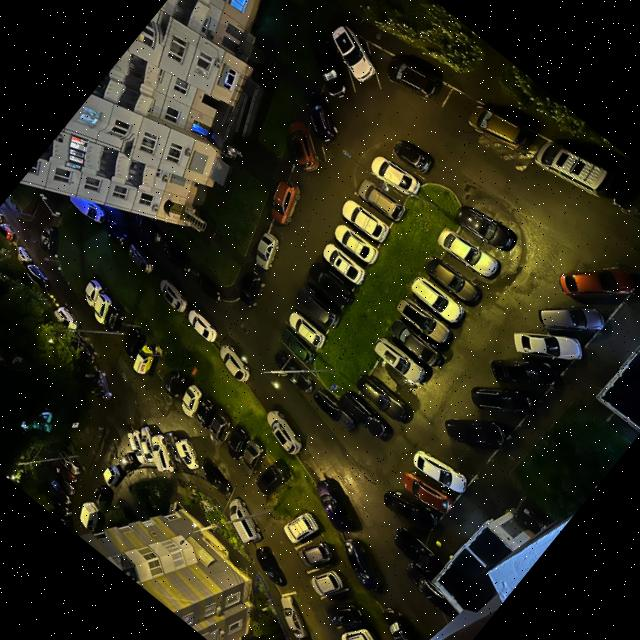car: (527, 135, 623, 205), (438, 191, 513, 254), (433, 221, 504, 287), (415, 247, 487, 311), (364, 329, 434, 392), (463, 98, 538, 156), (403, 267, 467, 325), (352, 365, 410, 427), (400, 560, 459, 620), (329, 23, 380, 90), (382, 53, 445, 107), (394, 294, 455, 346), (550, 264, 638, 300), (339, 389, 394, 446), (349, 174, 407, 226), (388, 519, 440, 576), (307, 34, 349, 104), (367, 150, 424, 201), (380, 488, 441, 535), (339, 195, 392, 249), (315, 475, 360, 537), (303, 262, 357, 313), (412, 446, 467, 496), (400, 468, 454, 517), (388, 317, 439, 367), (263, 404, 308, 460), (343, 534, 384, 595), (308, 383, 357, 434), (293, 281, 341, 332), (483, 356, 559, 388), (508, 331, 583, 363), (270, 344, 316, 396), (464, 383, 532, 417), (321, 240, 367, 289), (286, 117, 323, 176), (331, 223, 379, 268), (302, 88, 338, 147), (533, 306, 608, 334), (443, 418, 507, 450), (285, 305, 327, 353), (217, 336, 257, 386), (277, 321, 317, 369), (226, 494, 263, 545), (393, 135, 434, 181), (268, 177, 303, 229), (275, 596, 312, 640), (159, 273, 194, 319), (279, 513, 320, 550), (187, 305, 222, 348), (252, 458, 288, 499), (253, 547, 288, 589), (235, 267, 266, 313), (252, 230, 282, 276), (379, 605, 418, 640), (195, 274, 228, 311), (198, 460, 231, 497), (238, 435, 265, 480), (165, 240, 196, 279), (292, 540, 333, 569), (222, 421, 251, 462), (163, 365, 191, 406), (310, 569, 348, 599), (205, 410, 232, 452), (130, 341, 157, 382), (177, 384, 205, 423), (327, 605, 370, 630), (128, 241, 156, 279), (148, 434, 175, 472), (195, 395, 219, 436), (136, 213, 164, 245), (159, 431, 184, 465), (122, 326, 145, 362), (172, 441, 198, 472), (71, 333, 96, 364), (127, 430, 149, 465), (106, 300, 127, 336), (91, 367, 112, 402), (52, 306, 78, 334), (107, 222, 131, 252), (138, 426, 156, 464), (93, 294, 113, 327), (25, 264, 48, 291), (82, 278, 102, 309), (39, 225, 55, 254), (339, 628, 377, 640), (16, 246, 32, 265)
